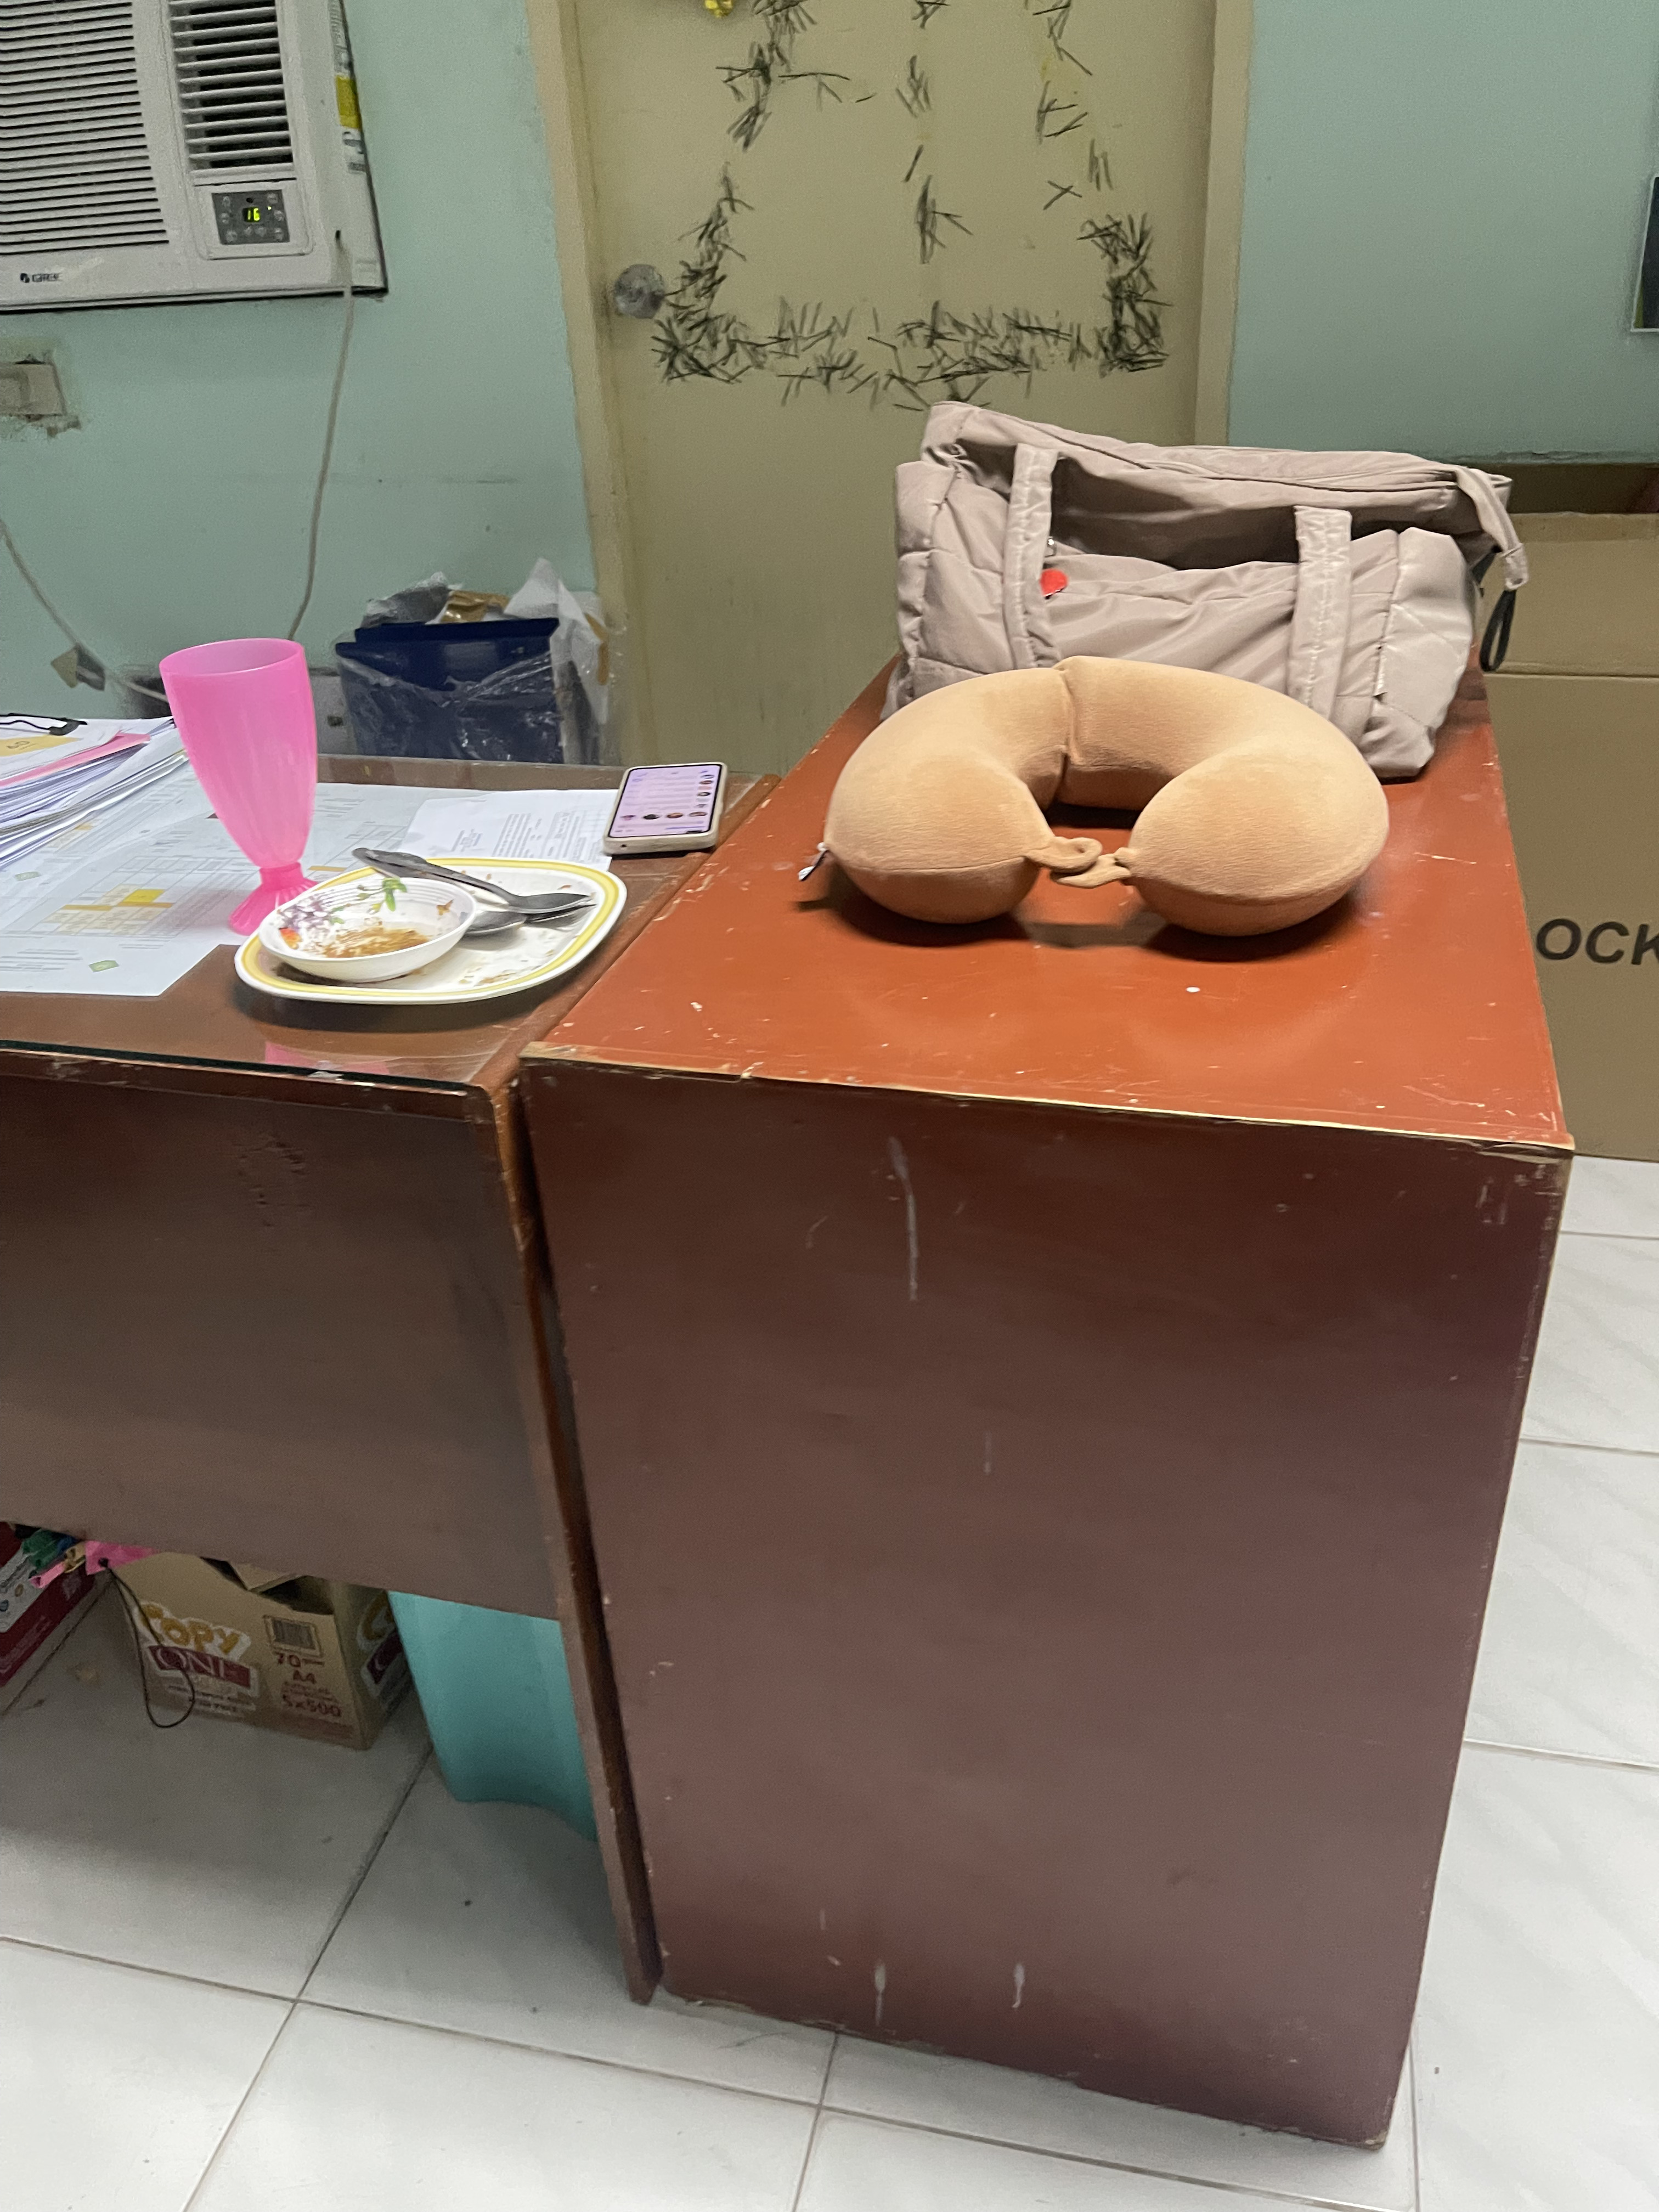table2: (0, 648, 1638, 2158)
